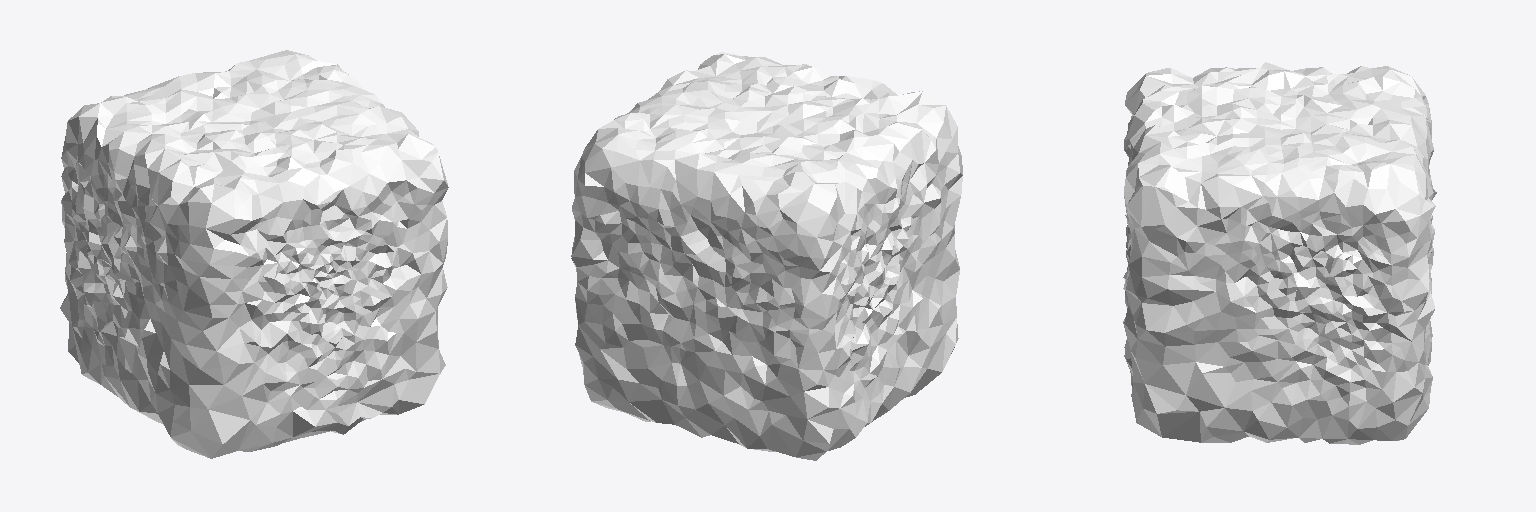
File: cube-rough.obj
3 views of the same model, side by side, from view 1: azimuth 30°, elevation 25°; view 2: azimuth 150°, elevation 25°; view 3: azimuth 270°, elevation 25° (orthographic).
Visible parts, largest first — view 1: a4.obj; view 2: a4.obj; view 3: a4.obj.
Part boxes in pixels (x1,y1,x2,y2): a4.obj: (60, 50, 448, 458); a4.obj: (571, 52, 962, 460); a4.obj: (1123, 62, 1436, 444).
Size of the model in its own units: 9.96 by 9.96 by 9.93.